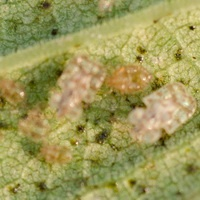insect: (0, 1, 199, 199), (128, 82, 196, 142), (49, 54, 105, 120), (107, 64, 153, 93)
